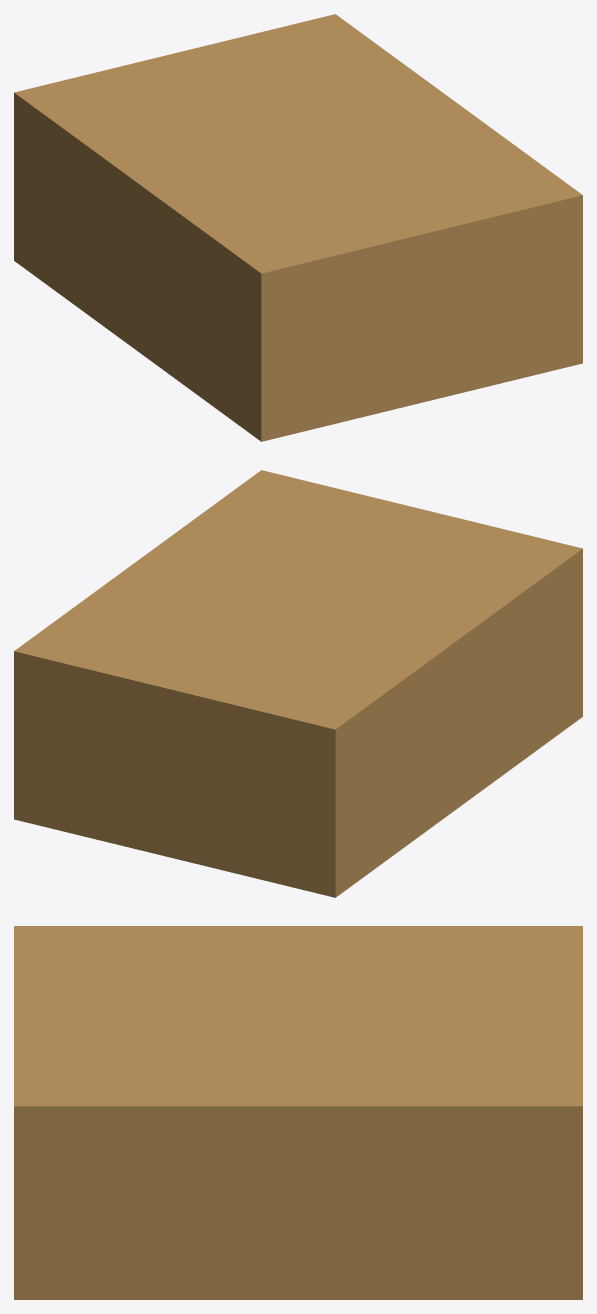
3 views of the same model, one above another, from view 1: azimuth 30°, elevation 25°; view 2: azimuth 150°, elevation 25°; view 3: azimuth 270°, elevation 25° (orthographic). The views are drawn at different scales.
Parts seen in each view (by area): view 1: RUN-073-S00-NOG-00; view 2: RUN-073-S00-NOG-00; view 3: RUN-073-S00-NOG-00.
Boxes of the visible parts, x1,y1,x2,y2 form: RUN-073-S00-NOG-00: (14, 14, 582, 441); RUN-073-S00-NOG-00: (14, 470, 582, 897); RUN-073-S00-NOG-00: (14, 926, 582, 1299).
Bounding box in the file's own units: 0.09 × 0.045 × 0.12.
